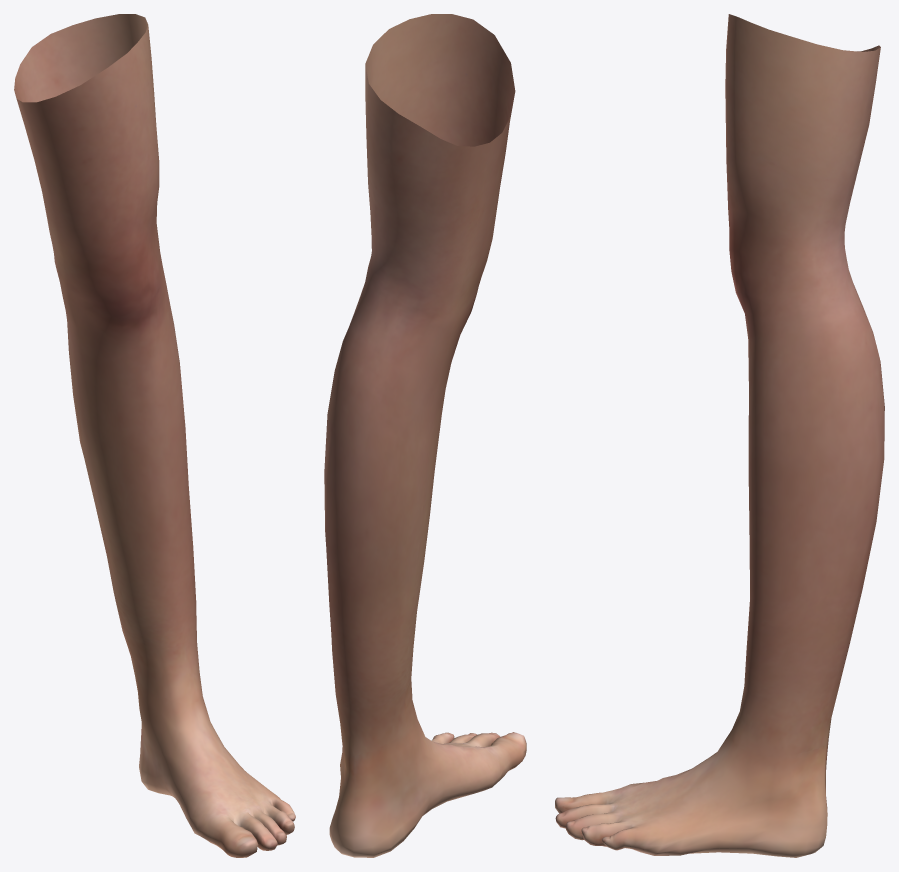
The model's file is PiernaIzquierda.obj.
3 renders of one model, left to right at view 1: azimuth 30°, elevation 25°; view 2: azimuth 150°, elevation 25°; view 3: azimuth 270°, elevation 25°, orthographic. The views are drawn at different scales.
Visible parts, largest first — view 1: red_woman-base; view 2: red_woman-base; view 3: red_woman-base.
Part boxes in pixels (x1,y1,x2,y2): red_woman-base: (14, 14, 295, 857); red_woman-base: (324, 14, 526, 857); red_woman-base: (555, 14, 884, 857).
Bounding box in the file's own units: 2.05 × 8.42 × 3.12.
